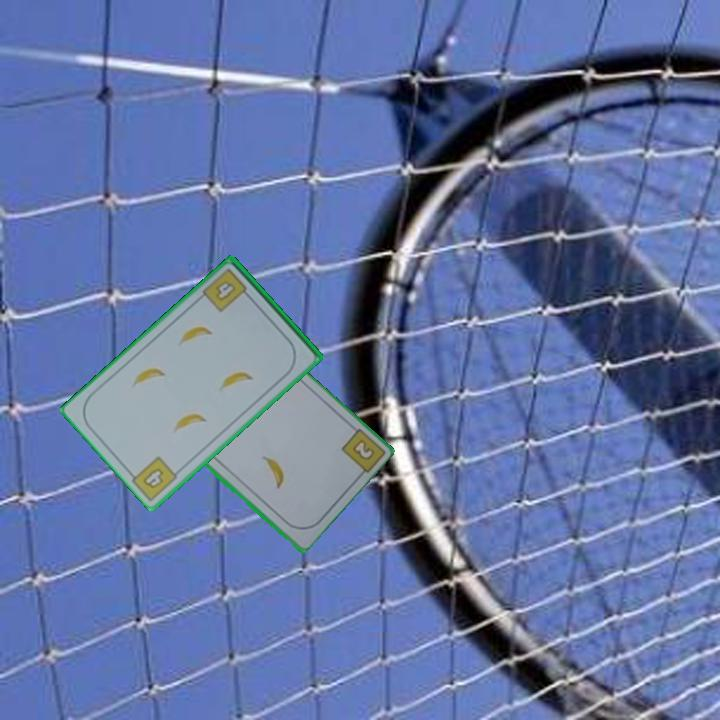2b: (348, 436, 375, 461)
4b: (199, 265, 254, 315), (139, 464, 166, 492)
